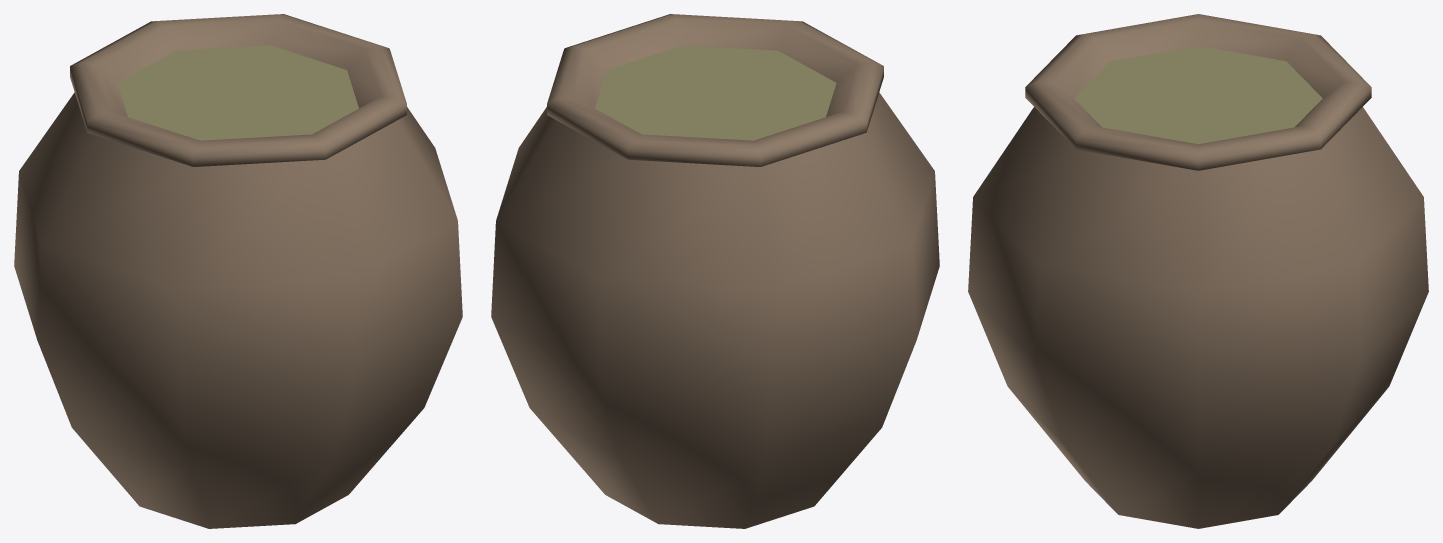
Rendered from SM_Ceramic_Thick_Pot_02.fbx.
3 renders of one model, left to right at view 1: azimuth 30°, elevation 25°; view 2: azimuth 150°, elevation 25°; view 3: azimuth 270°, elevation 25°, orthographic.
Visible parts, largest first — view 1: Ceramic_Thick_Pot_02; view 2: Ceramic_Thick_Pot_02; view 3: Ceramic_Thick_Pot_02.
Boxes of the visible parts, x1,y1,x2,y2 form: Ceramic_Thick_Pot_02: (14, 14, 462, 528); Ceramic_Thick_Pot_02: (491, 14, 939, 528); Ceramic_Thick_Pot_02: (968, 14, 1428, 528).
Size of the model in its own units: 42.19 by 40.26 by 42.19.
